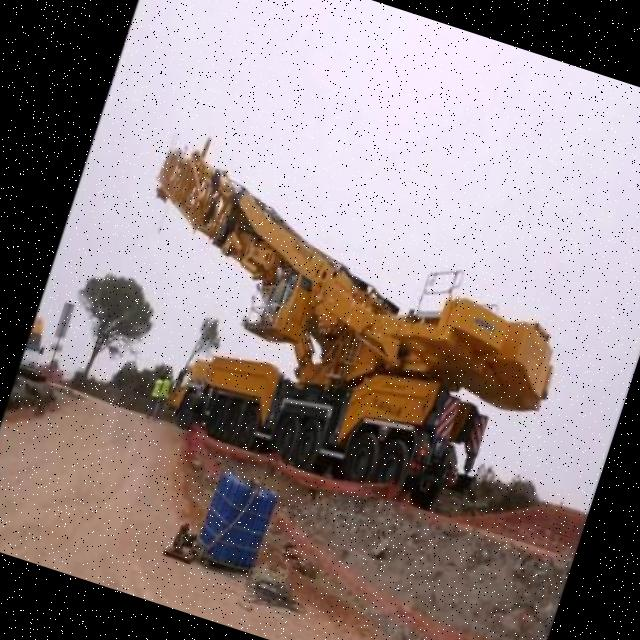Mobile Crane: (81, 128, 592, 536)
